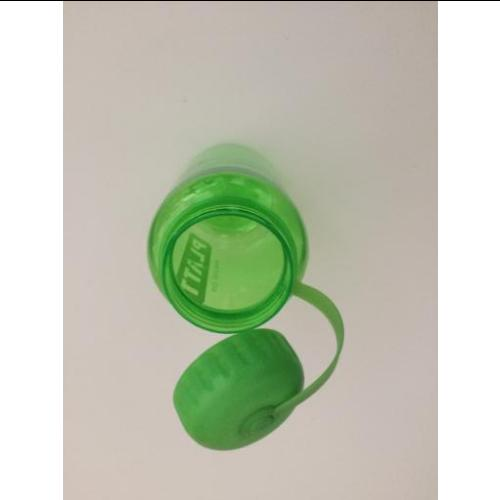plastic: (149, 144, 308, 332)
